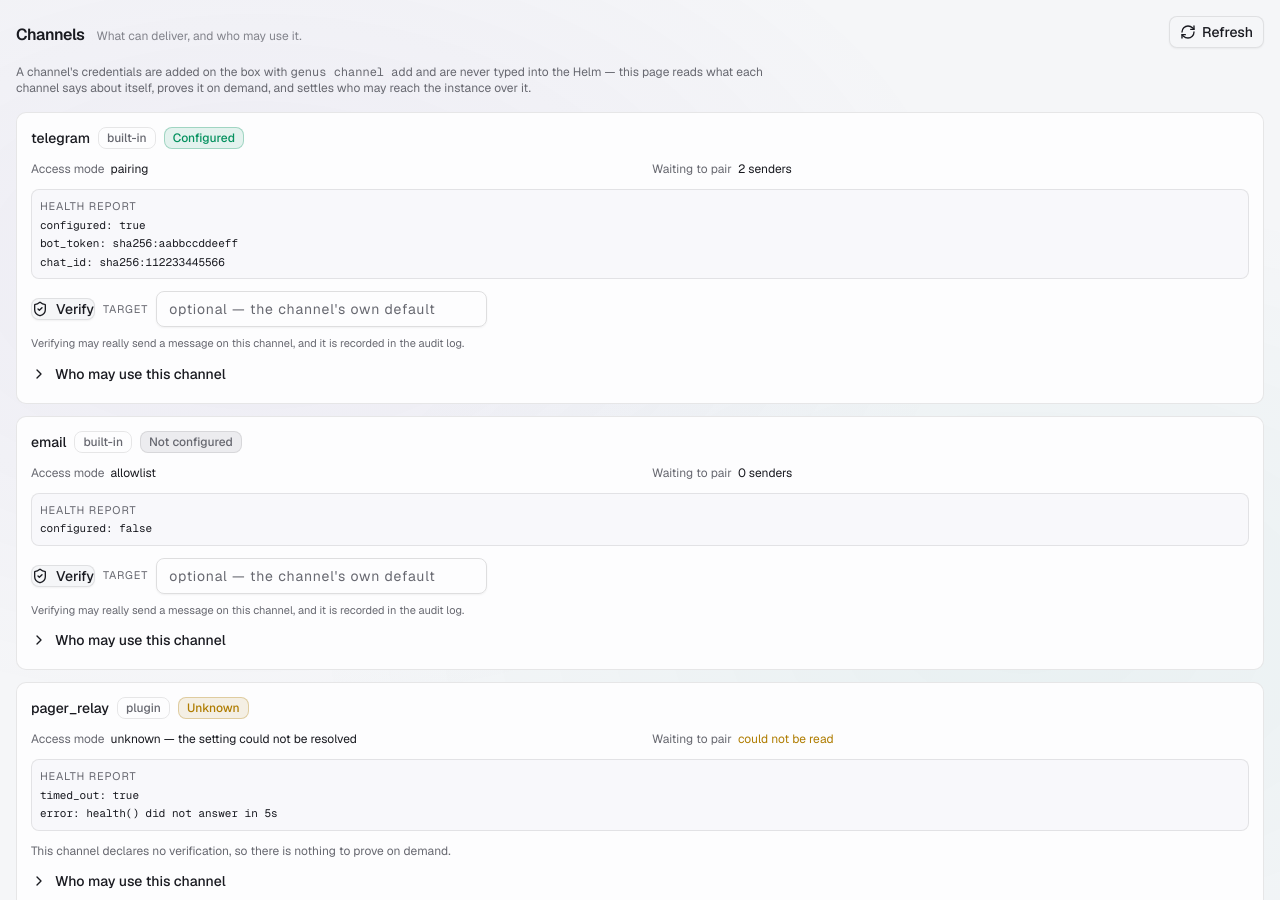
Test: ChannelsPage › runs verify and renders each step with its own verdict
The width and height of the screenshot is (1280, 900).
Expected: the element with test id "channel-card-telegram" is shown, [16,112,1264,404]
Click the button with test id "channel-verify-telegram".
click(63, 309)  # box [31,298,95,320]
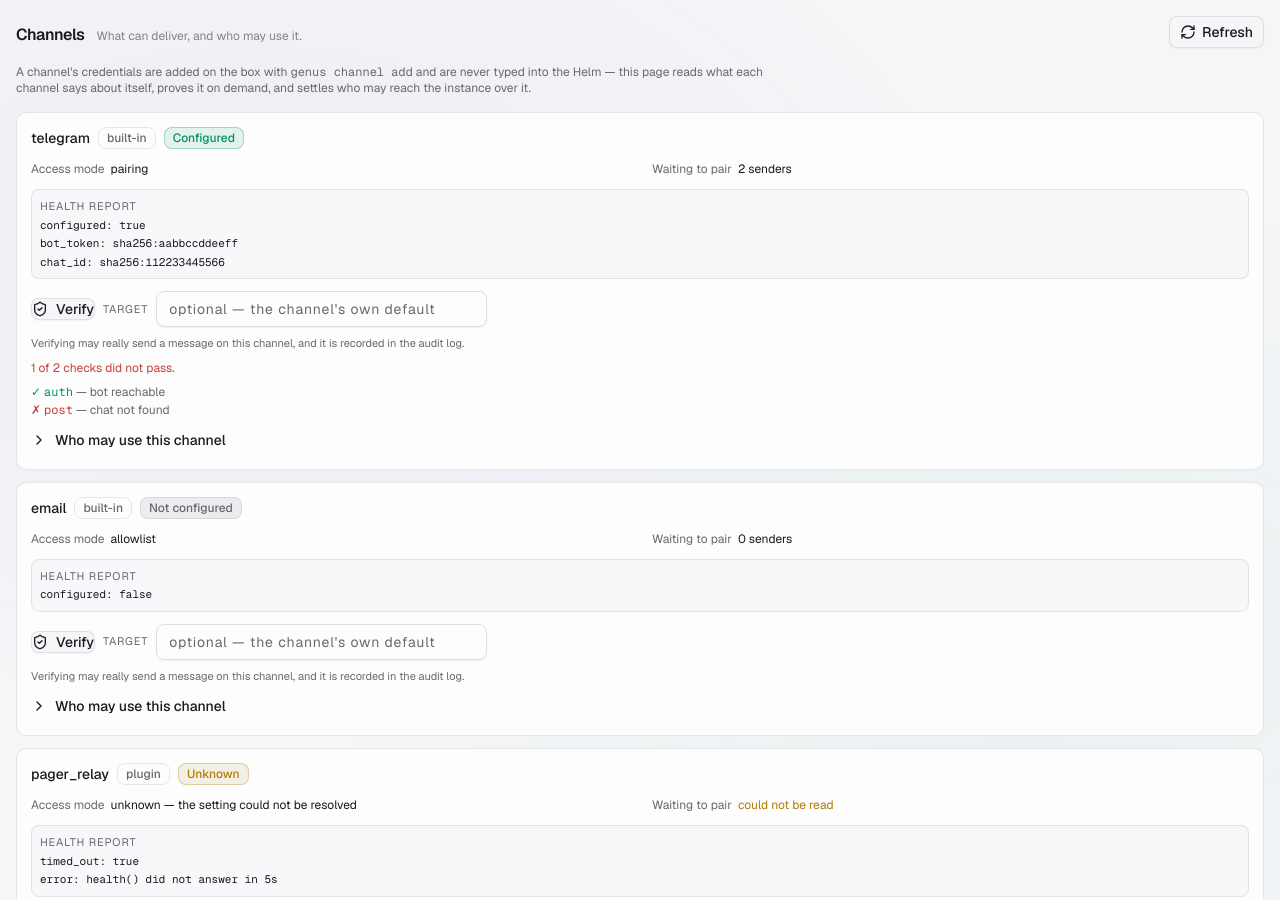
Now the text "1 of 2 checks did not pass." is shown, box [31,360,175,376]
Now the list item with test id "channel-verify-step-telegram-auth" shows "bot reachable", box [90,384,165,400]
Now the list item with test id "channel-verify-step-telegram-post" shows "chat not found", box [90,402,170,418]
